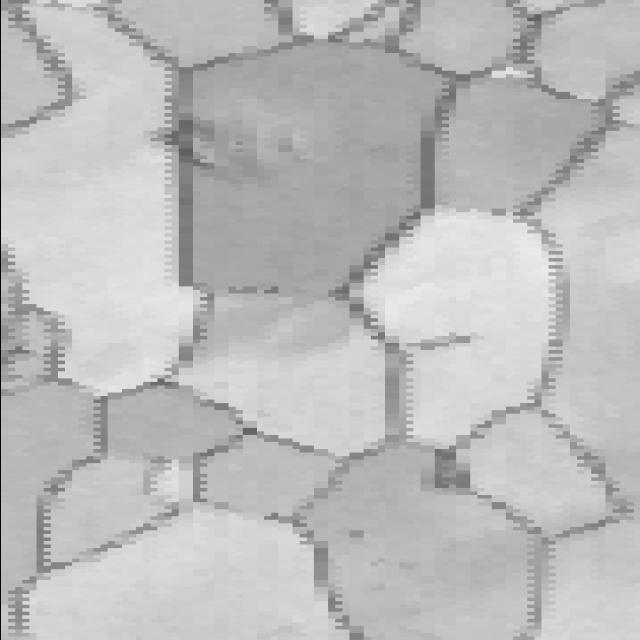good_void: (145, 99, 250, 174), (407, 332, 482, 355), (343, 523, 363, 539)
